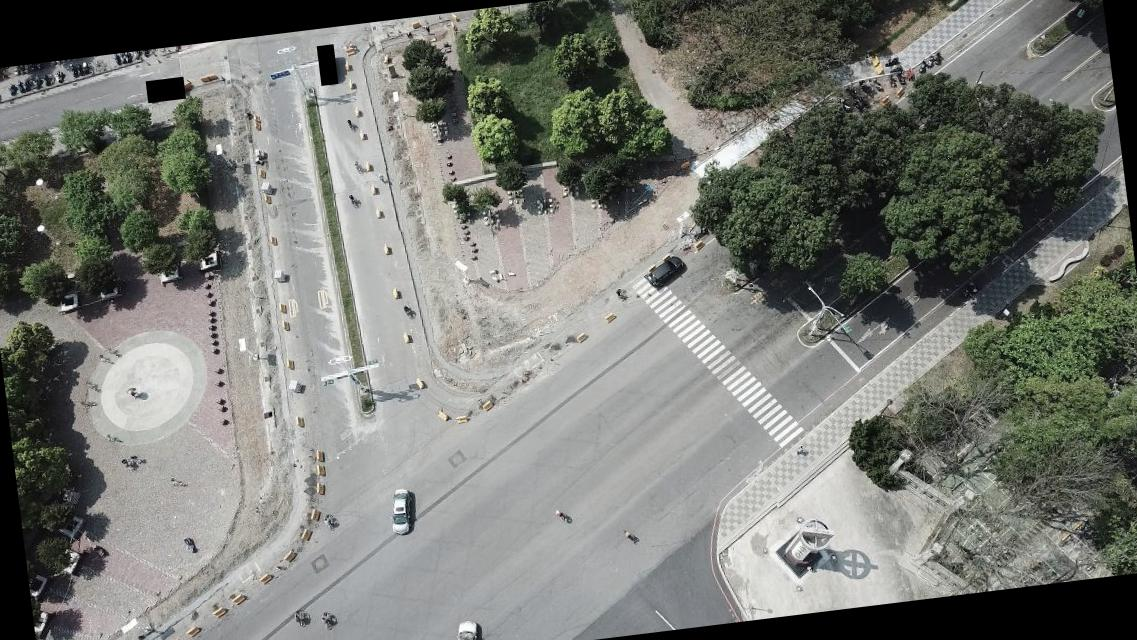vehicle: (642, 253, 688, 290), (385, 488, 416, 536), (451, 618, 486, 639)
